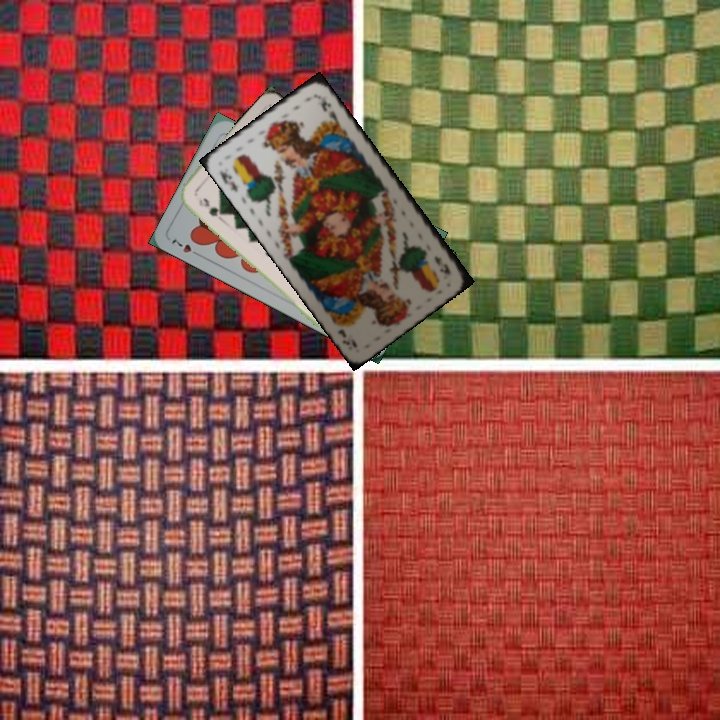EK: (215, 166, 241, 195), (430, 252, 453, 278)
G9: (195, 194, 226, 219)
H7: (168, 235, 204, 259)
